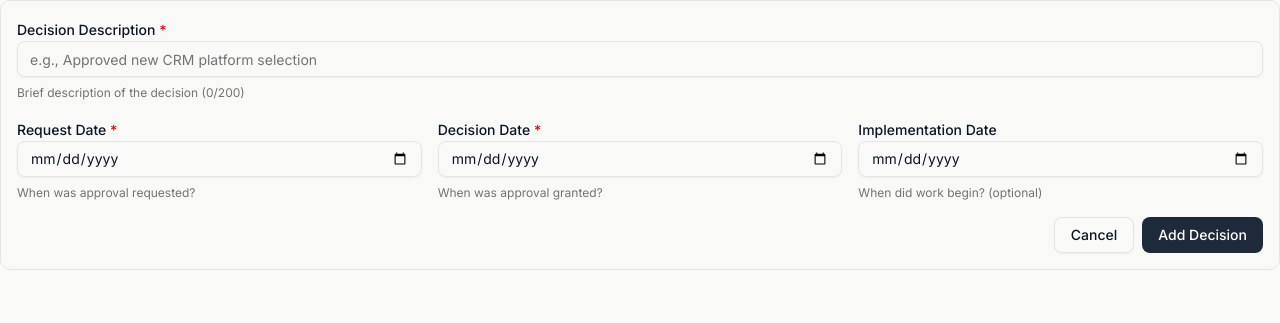
Test: DecisionSampleForm › validation › shows error when description is empty
Click the button "Add Decision" at (1203, 235), box x1=1142 y1=217 x2=1263 y2=253
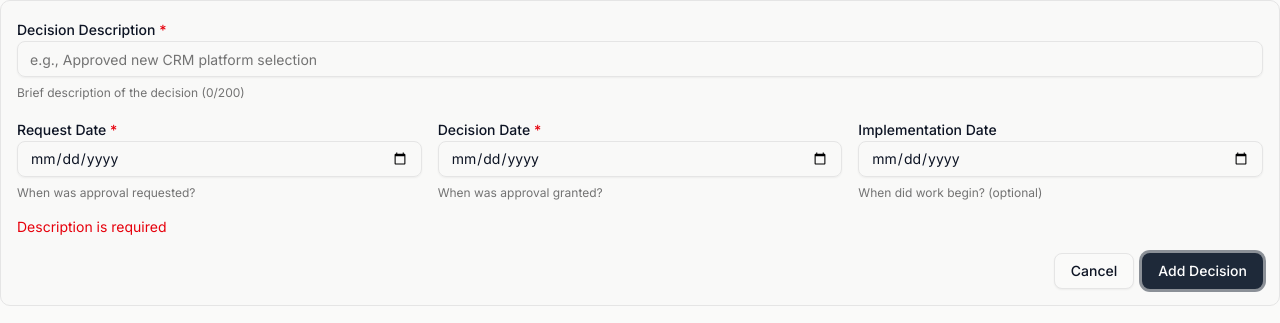
Expected: the message reads "Description is required", x1=17 y1=218 x2=166 y2=235
